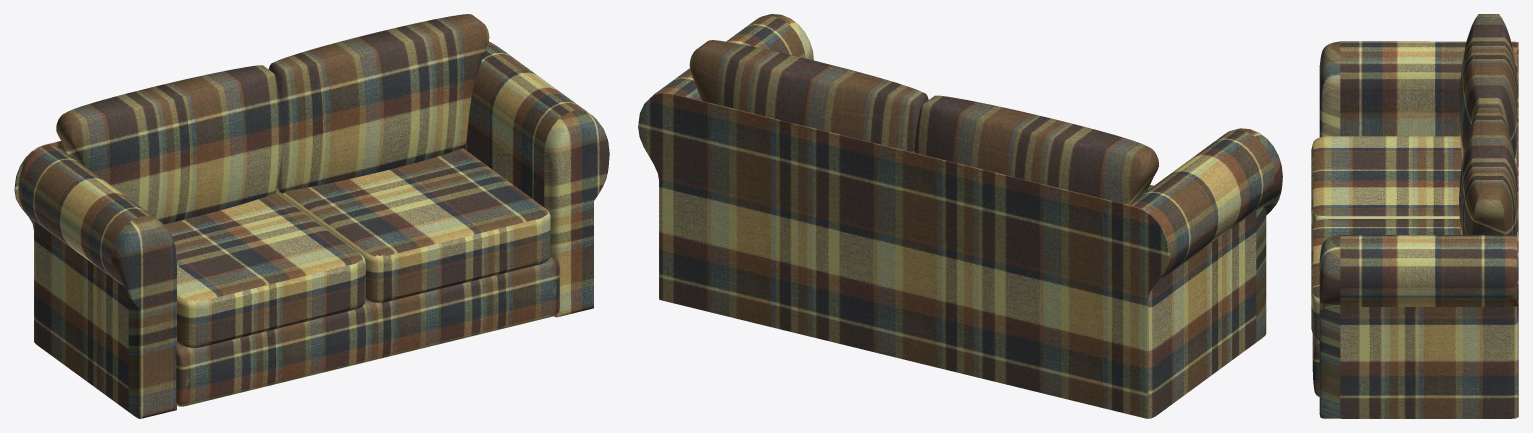
Rendered from sofa4.glb.
3 renders of one model, left to right at view 1: azimuth 30°, elevation 25°; view 2: azimuth 150°, elevation 25°; view 3: azimuth 270°, elevation 25°, orthographic. The views are drawn at different scales.
Parts seen in each view (by area): view 1: sofa4; view 2: sofa4; view 3: sofa4.
Part boxes in pixels (left/top/right/bottom): sofa4: left=14, top=14, right=609, bottom=418; sofa4: left=638, top=14, right=1282, bottom=418; sofa4: left=1311, top=14, right=1518, bottom=418.
Bounding box in the file's own units: 1.85 × 0.8349 × 0.7404.
1 material, 1 textured.
